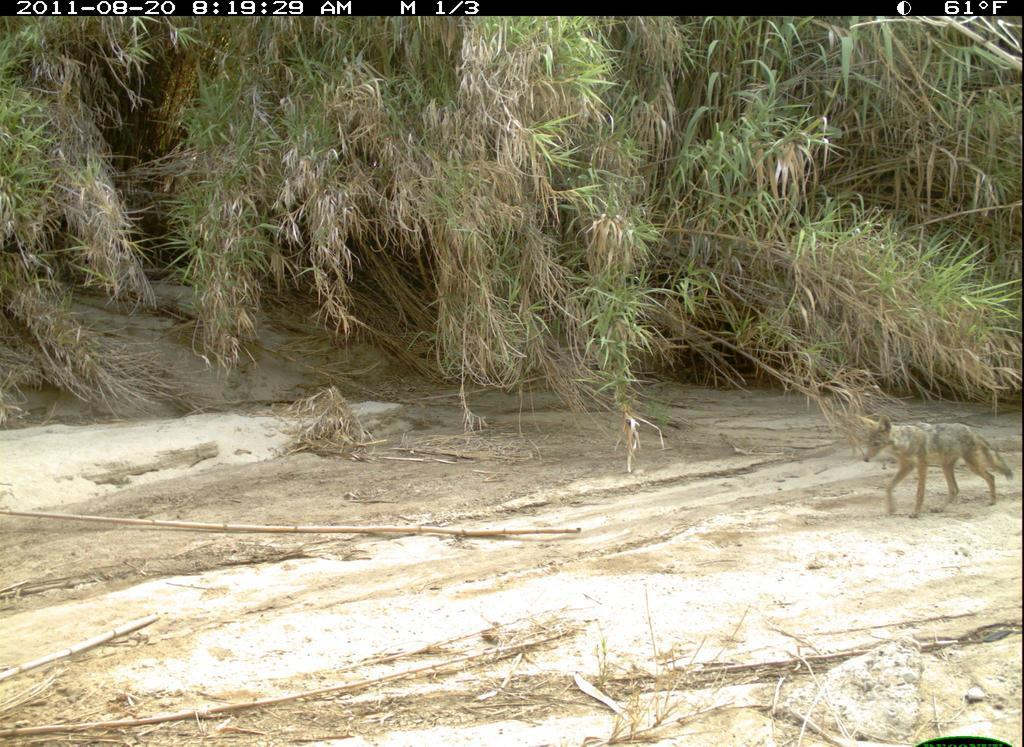coyote: (847, 400, 1019, 529)
